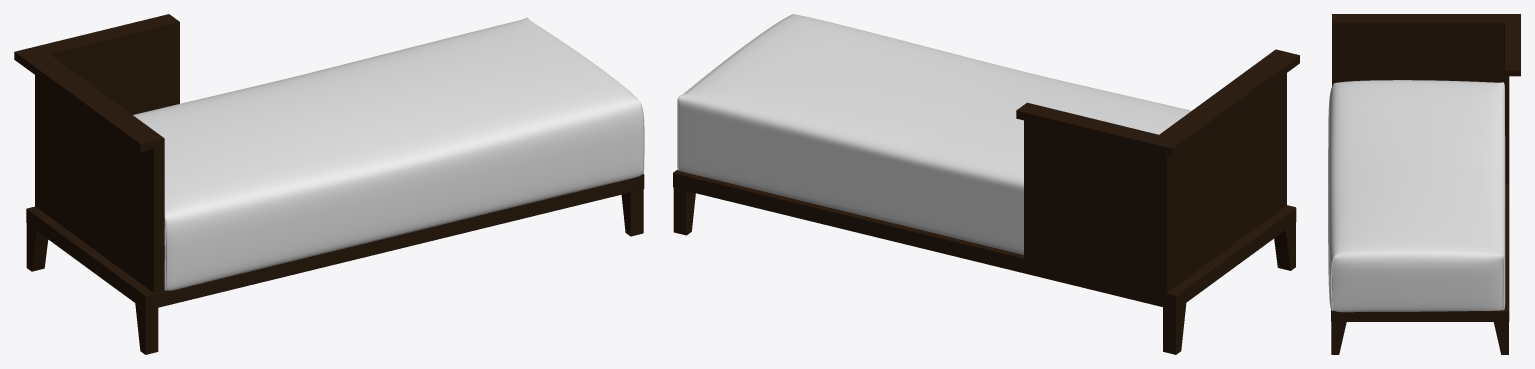
3 views of the same model, side by side, from view 1: azimuth 30°, elevation 25°; view 2: azimuth 150°, elevation 25°; view 3: azimuth 270°, elevation 25° (orthographic). The views are drawn at different scales.
Visible parts, largest first — view 1: Box42, Box13; view 2: Box42, Box13; view 3: Box42, Box13.
Part boxes in pixels (x1,y1,x2,y2): Box42: [133, 17, 644, 290]; Box13: [14, 14, 644, 354]; Box42: [677, 14, 1191, 254]; Box13: [673, 49, 1299, 354]; Box42: [1328, 80, 1505, 312]; Box13: [1331, 14, 1520, 354].
Bounding box in the file's own units: 1383 × 552 × 610.
